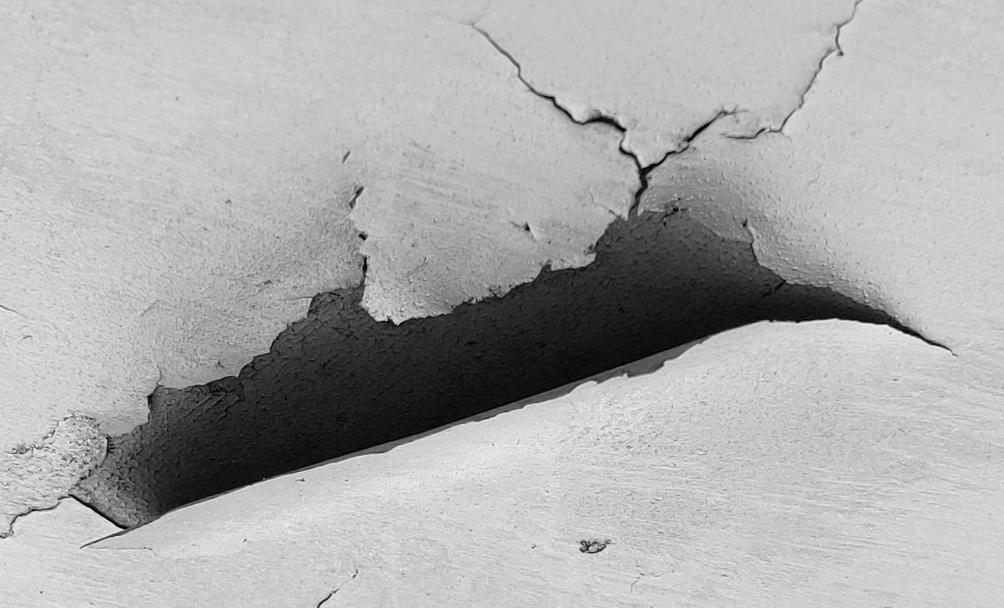paint-off: (0, 1, 1003, 608)
